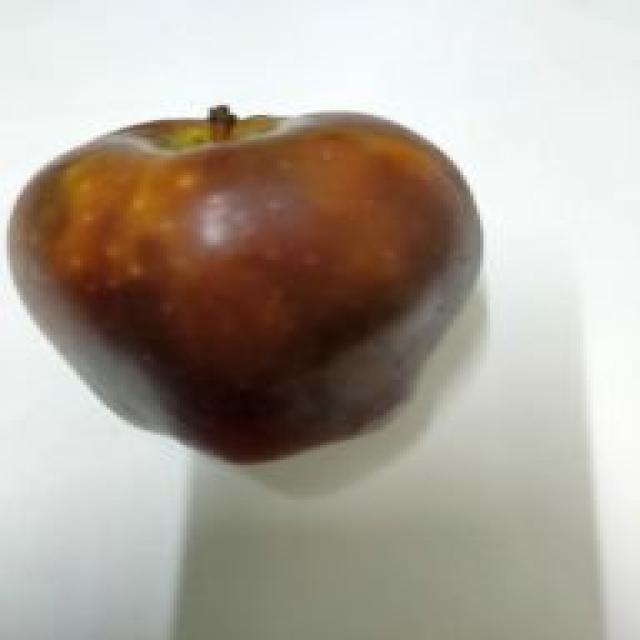Bad_Apple: (12, 115, 478, 462)
